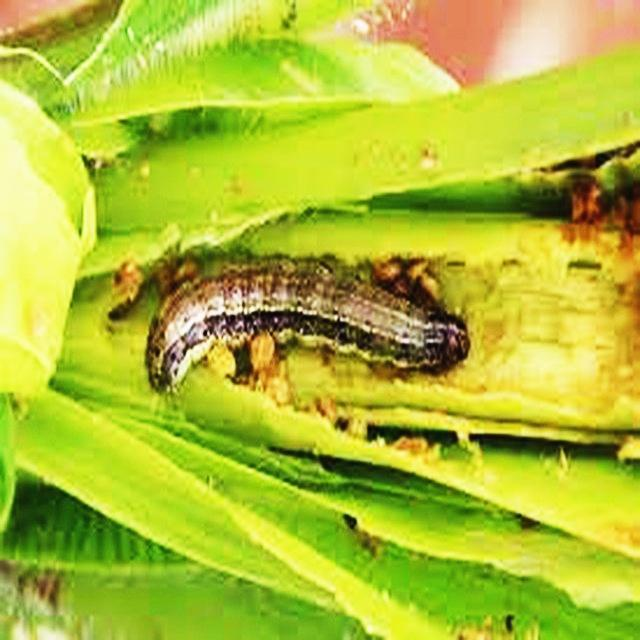Plaga: (144, 257, 475, 396)
